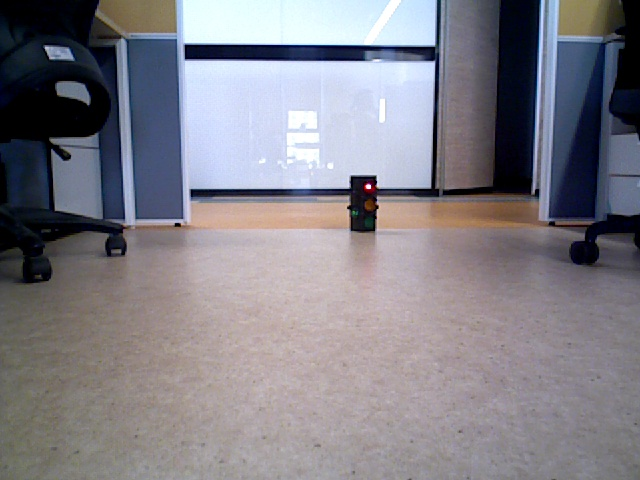red: (350, 174, 376, 229)
